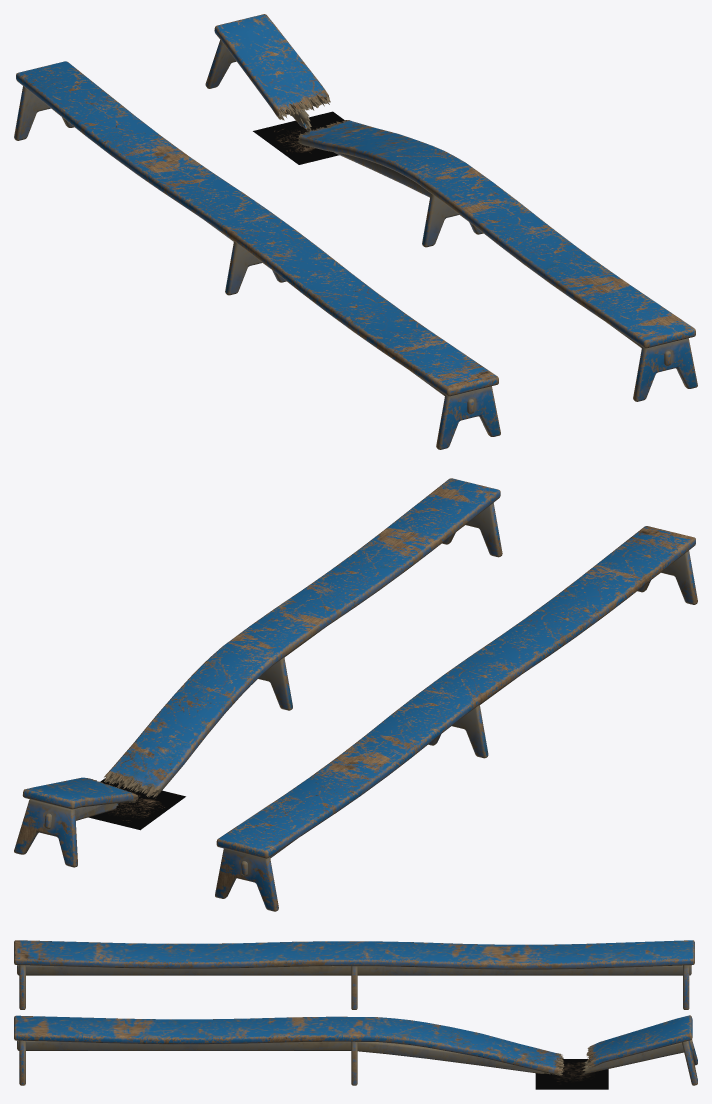
The model's file is скамейка.fbx.
3 views of the same model, one above another, from view 1: azimuth 30°, elevation 25°; view 2: azimuth 150°, elevation 25°; view 3: azimuth 270°, elevation 25° (orthographic). The views are drawn at different scales.
Parts seen in each view (by area): view 1: Плоскость, Плоскость.005, Плоскость.001; view 2: Плоскость, Плоскость.005, Плоскость.001; view 3: Плоскость, Плоскость.005, Плоскость.001.
Boxes of the visible parts, x1,y1,x2,y2 form: Плоскость: (14, 61, 500, 449); Плоскость.005: (253, 111, 697, 401); Плоскость.001: (205, 14, 330, 131); Плоскость: (215, 526, 697, 911); Плоскость.005: (88, 478, 502, 830); Плоскость.001: (14, 777, 138, 867); Плоскость: (14, 940, 694, 1009); Плоскость.005: (14, 1015, 608, 1089); Плоскость.001: (582, 1015, 697, 1085).
Bounding box in the file's own units: 1033 × 234 × 2900.
